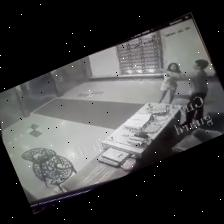person: (178, 60, 207, 127), (158, 63, 181, 103)
